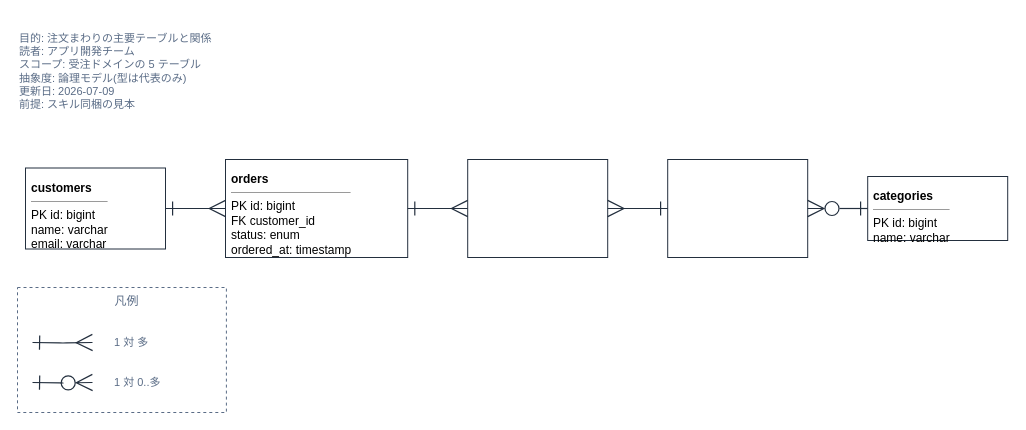
This 1026x430 diagram has some shape labels left out. The shapes that lost their labels are listed below. From the top down, each one's centre as x and y in pixels, then its label:
pixel 537 208: order_items PK id: bigint FK order_id FK product_id qty: int
pixel 737 208: products PK id: bigint FK category_id name: varchar price: decimal
